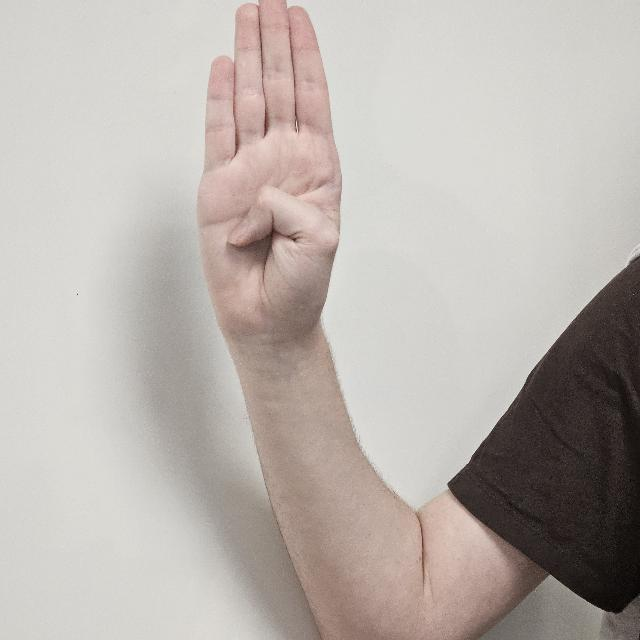Baixo: (190, 1, 348, 382)
